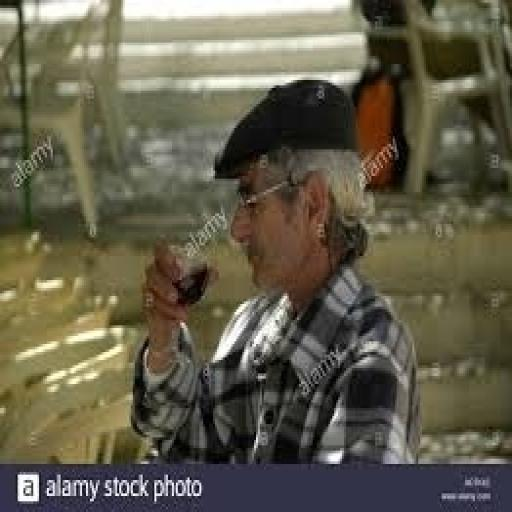drinking: (107, 88, 512, 512)
